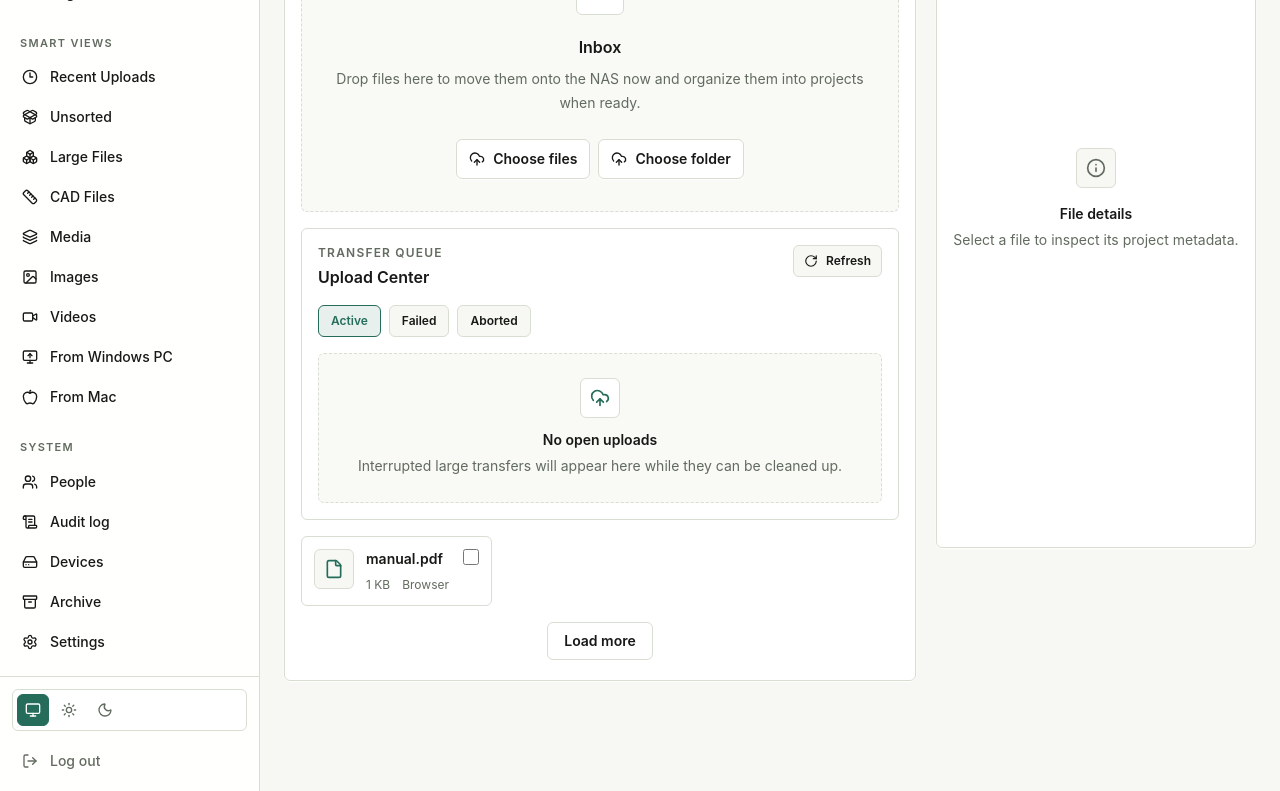
Scenario: AppShell › keeps the load-more control and explains when a page fails to load
(page scrolled)
Click the button with aria-label "Load more files".
click(600, 641)  # box [547, 622, 653, 660]
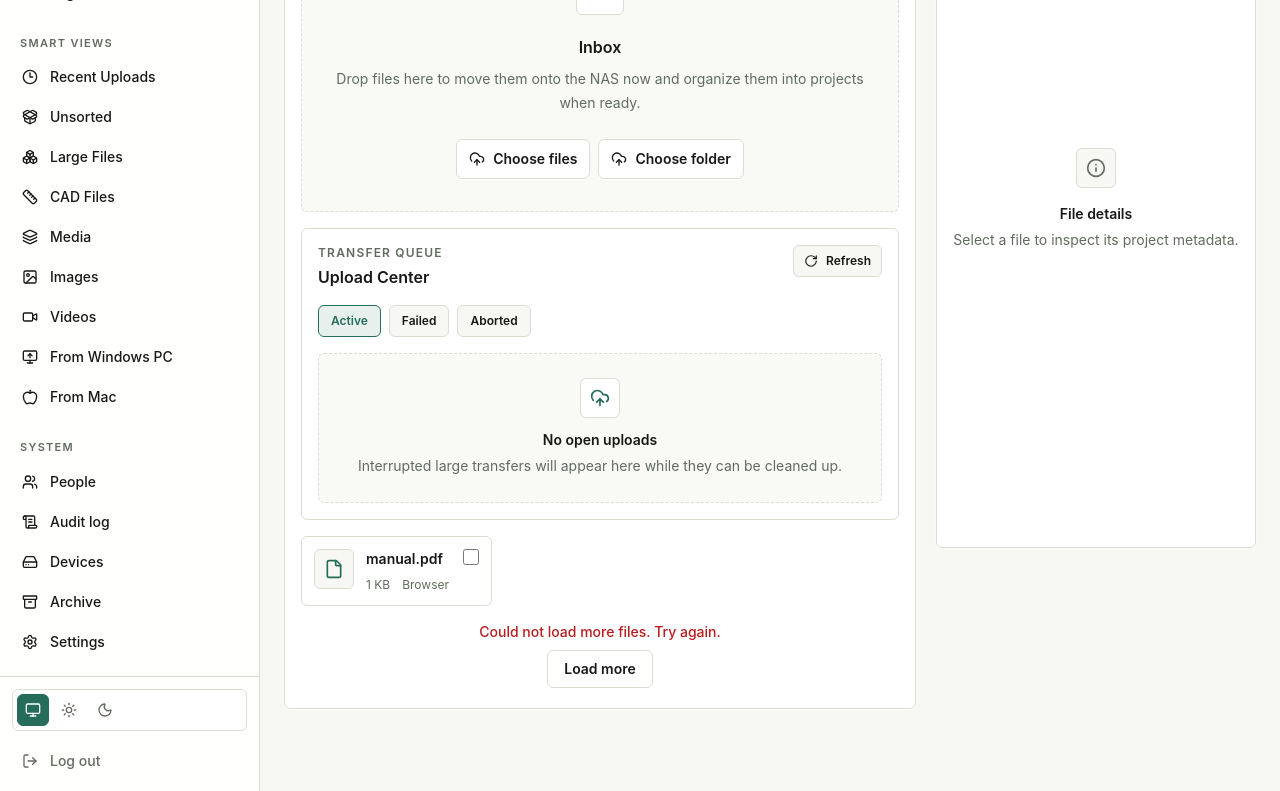
Check: the button with aria-label "Load more files" is enabled, box [547, 650, 653, 688]
Check: the text "Could not load more files. Try again." is shown, box [479, 622, 721, 642]
